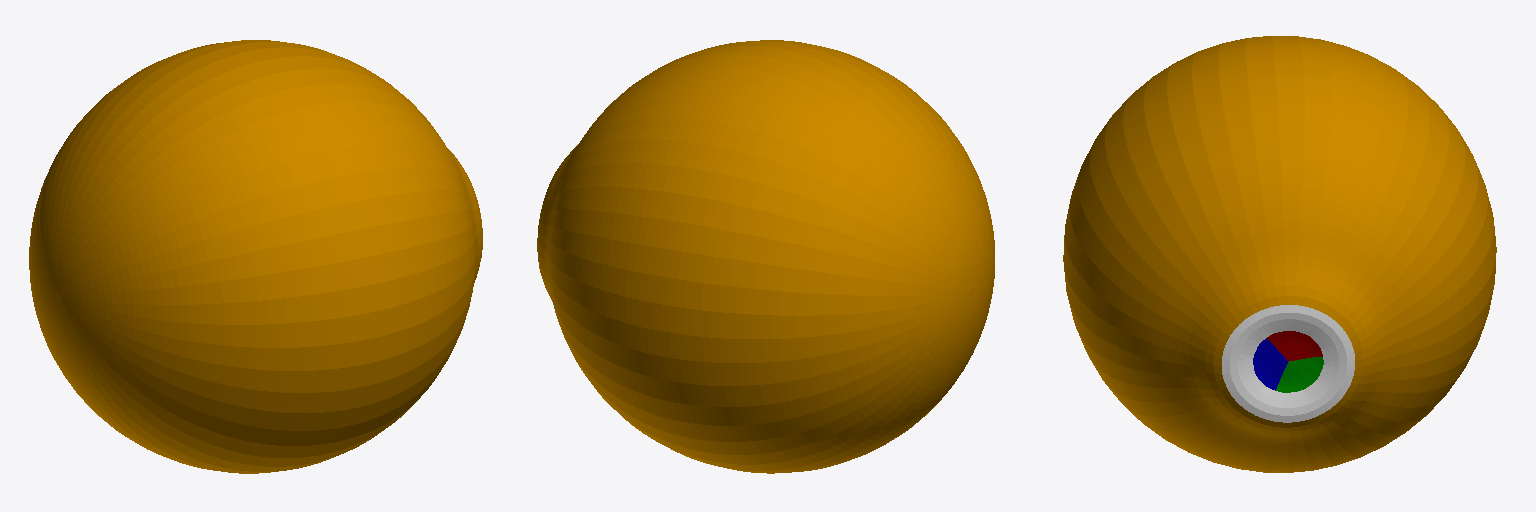
Rendered from eye.obj.
The picture shows the model from 3 angles: view 1: azimuth 30°, elevation 25°; view 2: azimuth 150°, elevation 25°; view 3: azimuth 270°, elevation 25°; orthographic projection.
Visible parts, largest first — view 1: Sphere_Sphere.006; view 2: Sphere_Sphere.006; view 3: Sphere_Sphere.006.
Part boxes in pixels (left/top/right/bottom): Sphere_Sphere.006: left=29, top=40, right=482, bottom=473; Sphere_Sphere.006: left=537, top=40, right=994, bottom=473; Sphere_Sphere.006: left=1063, top=36, right=1496, bottom=472.
Bounding box in the file's own units: 9.61 × 9.04 × 9.04.